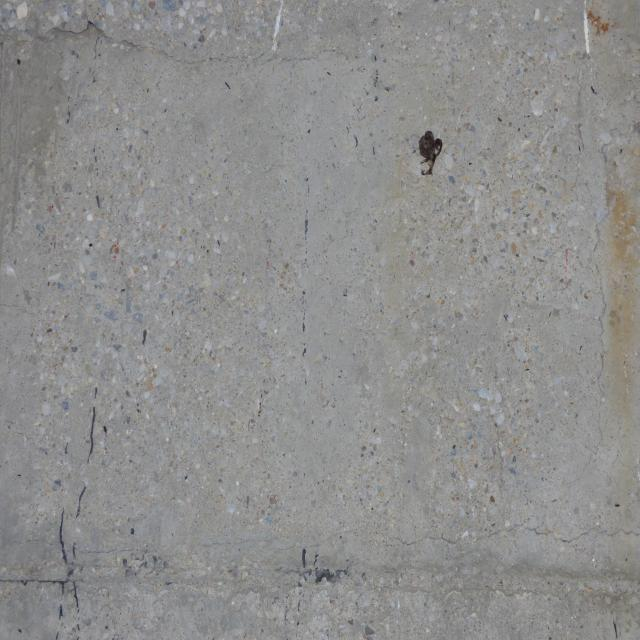corrosion: (593, 123, 640, 494), (385, 118, 453, 334), (582, 1, 611, 40)
